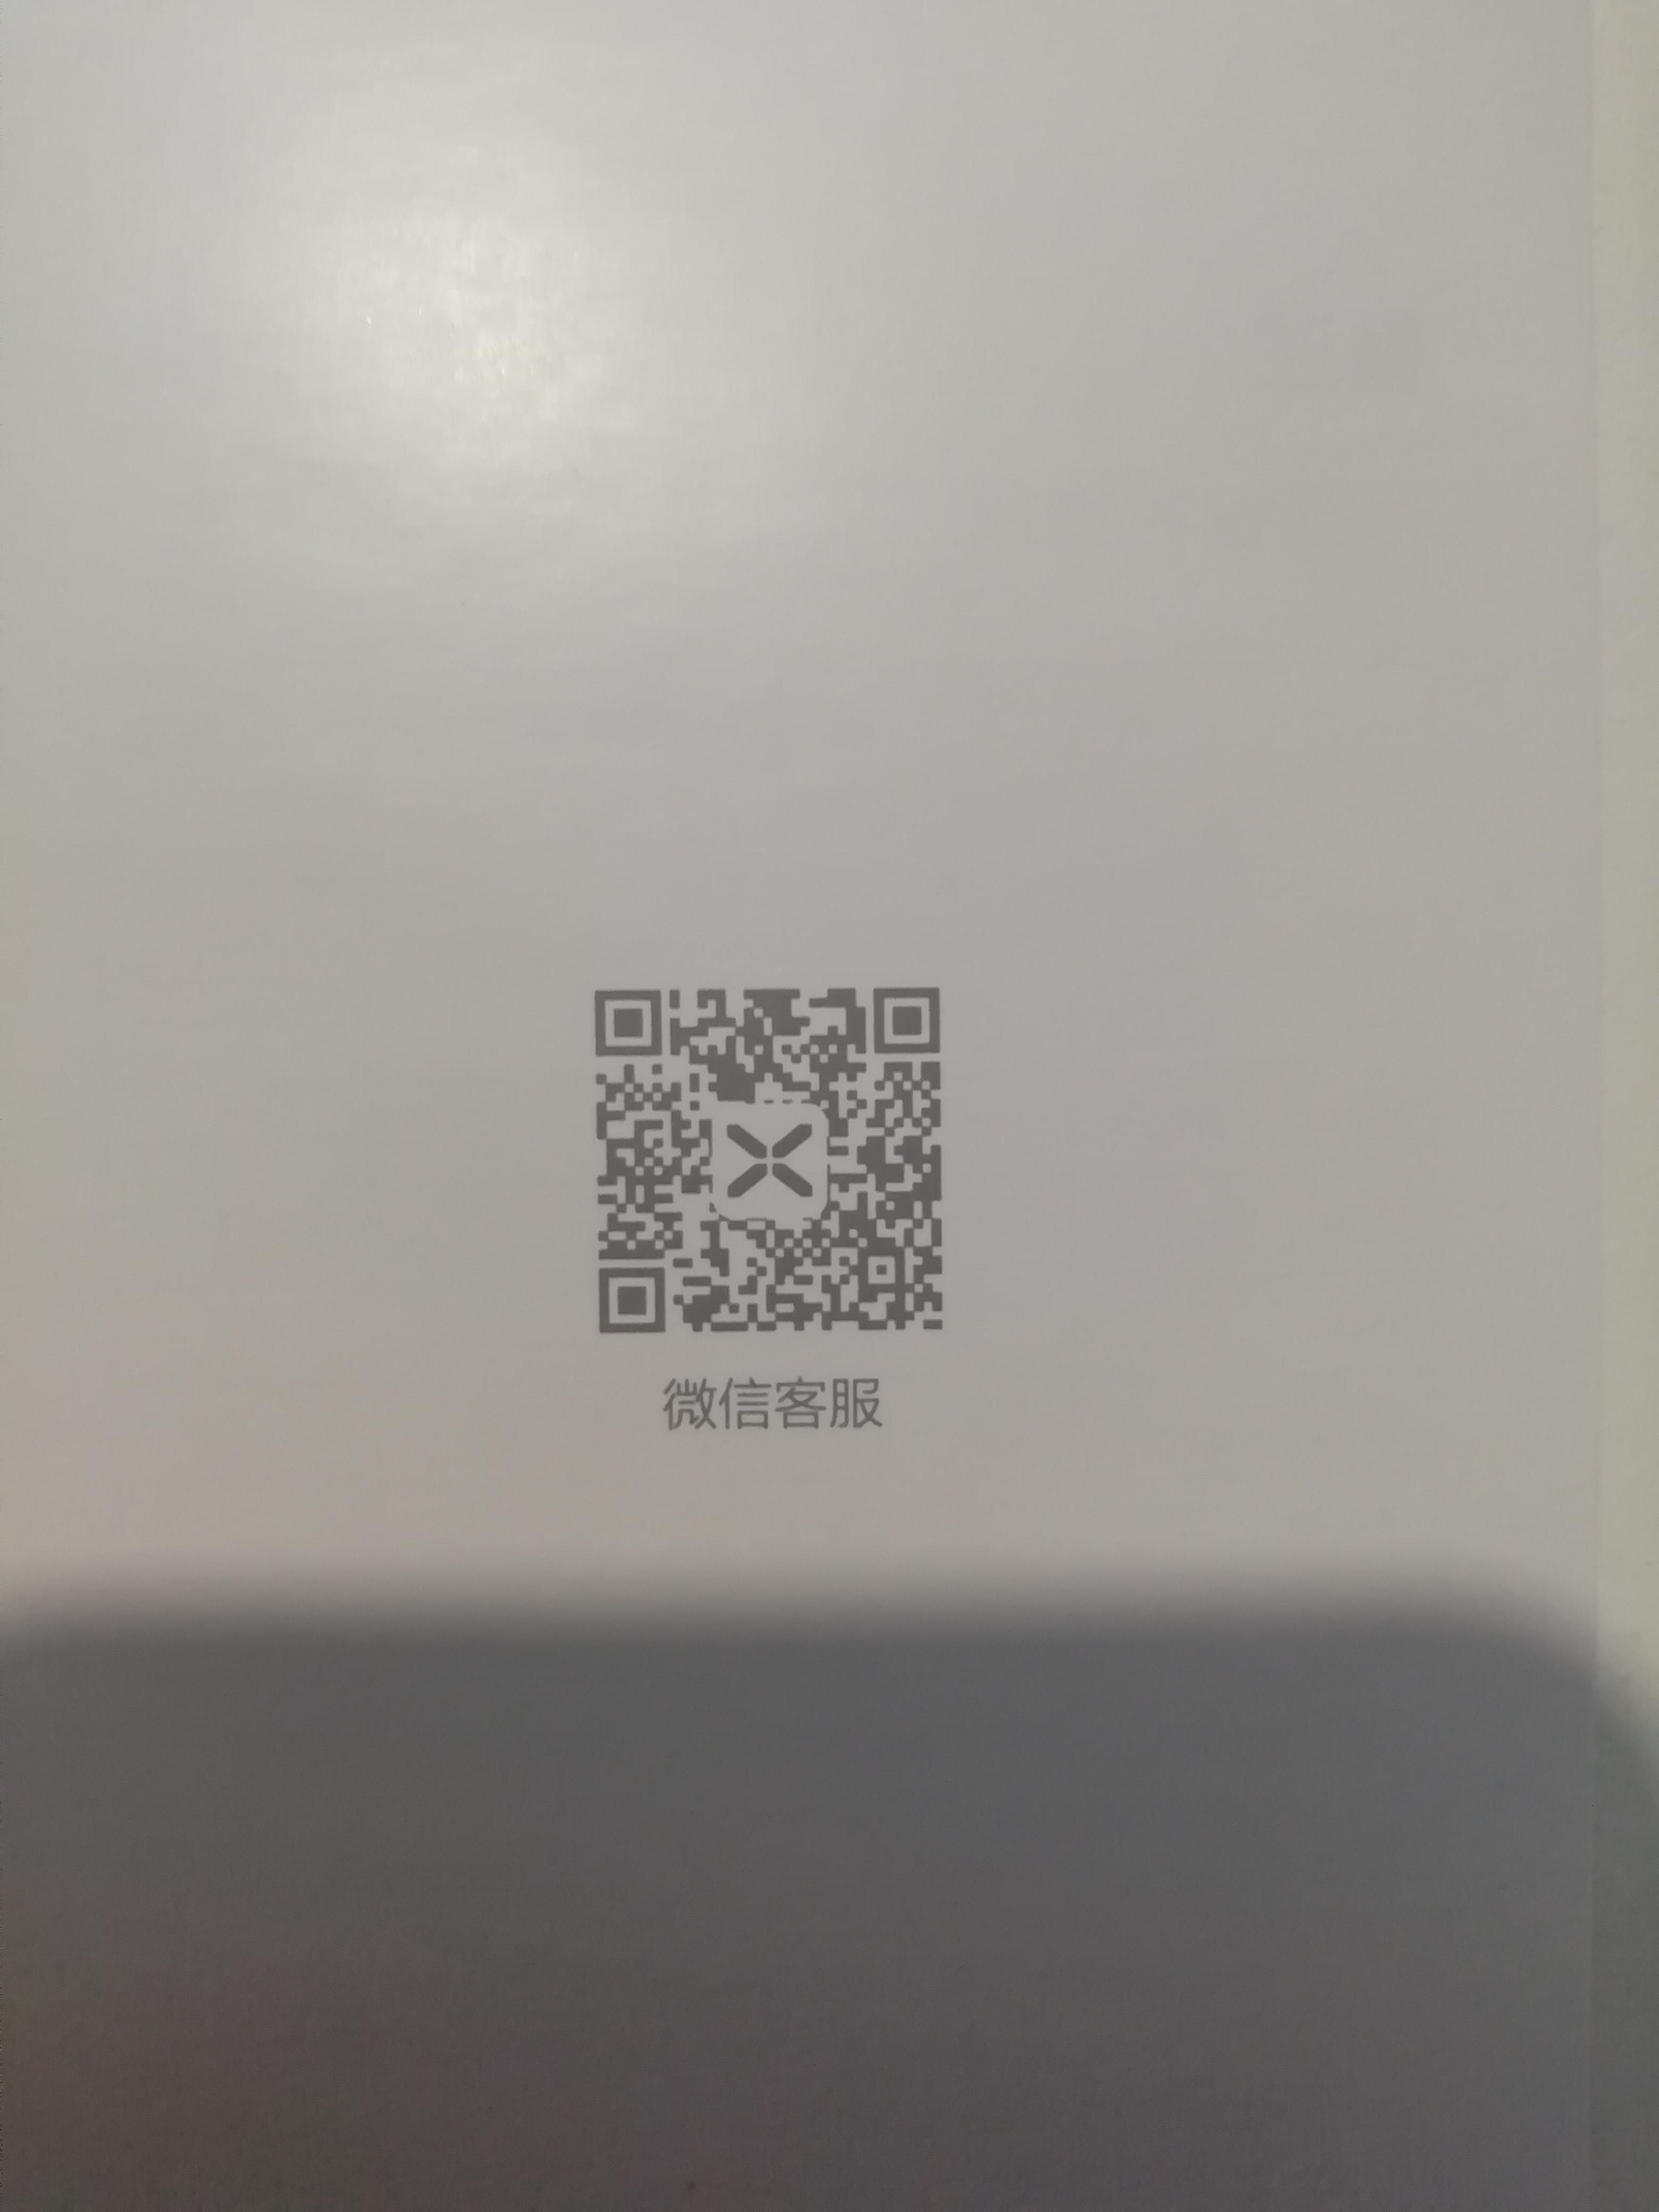qrcode: (596, 984, 950, 1336)
